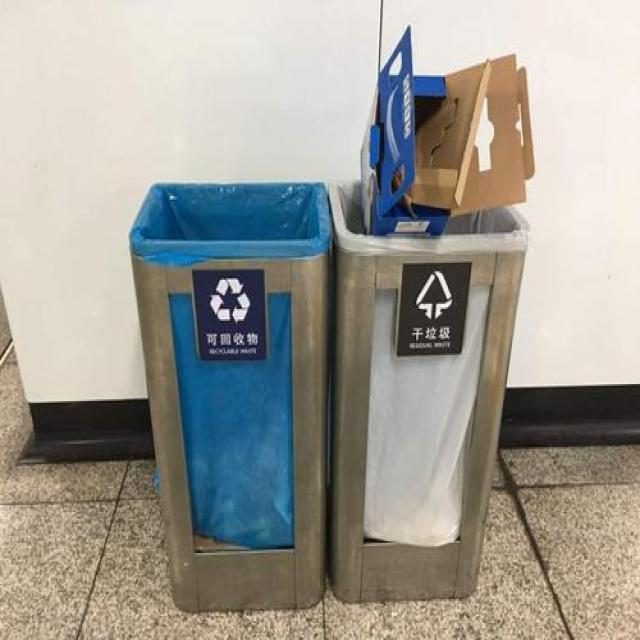garbage_bin: (128, 179, 333, 611)
overflow: (332, 7, 534, 601)
